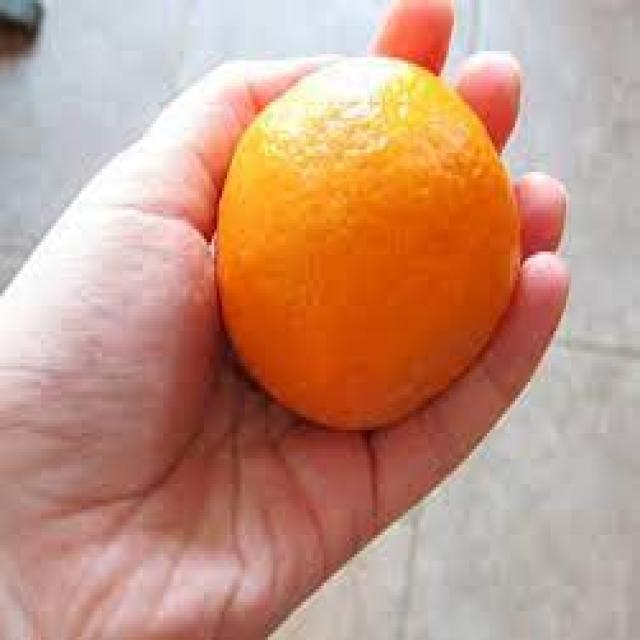Orange: (212, 54, 522, 432)
